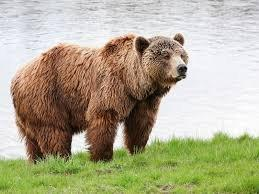bear: (10, 32, 188, 164)
